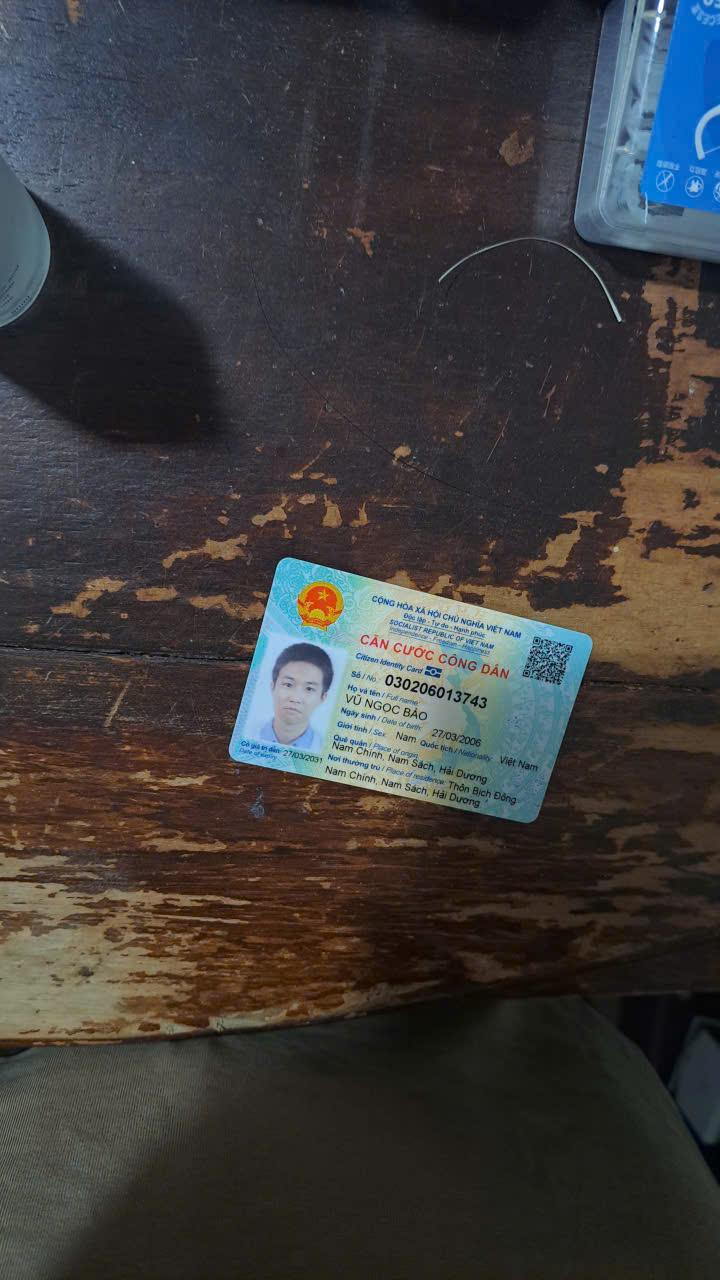cccd: (220, 553, 602, 845)
